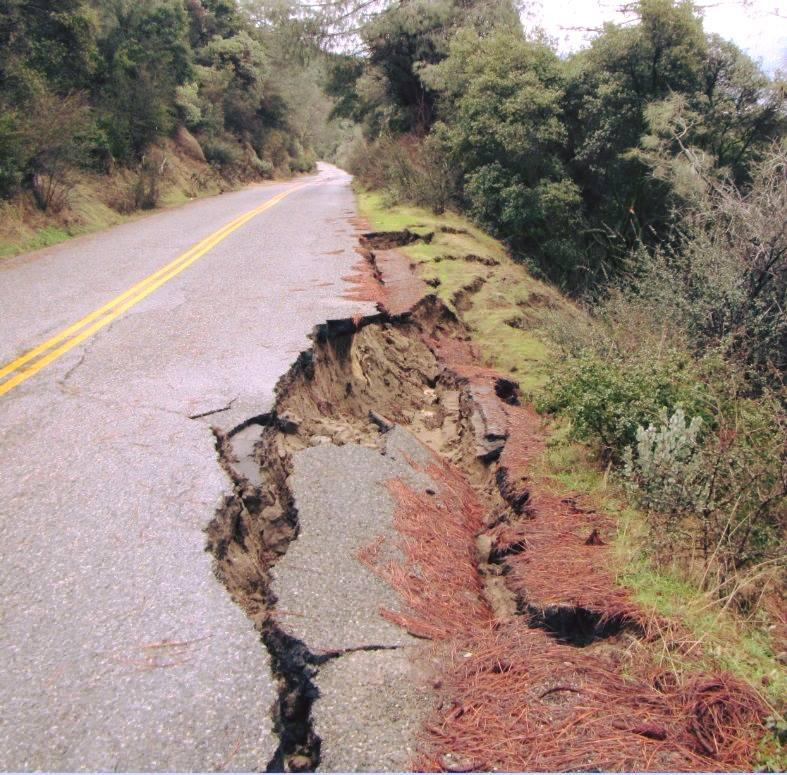crackedroads: (223, 305, 420, 770), (283, 430, 485, 651), (493, 457, 648, 647), (412, 299, 481, 426), (363, 235, 425, 251)
